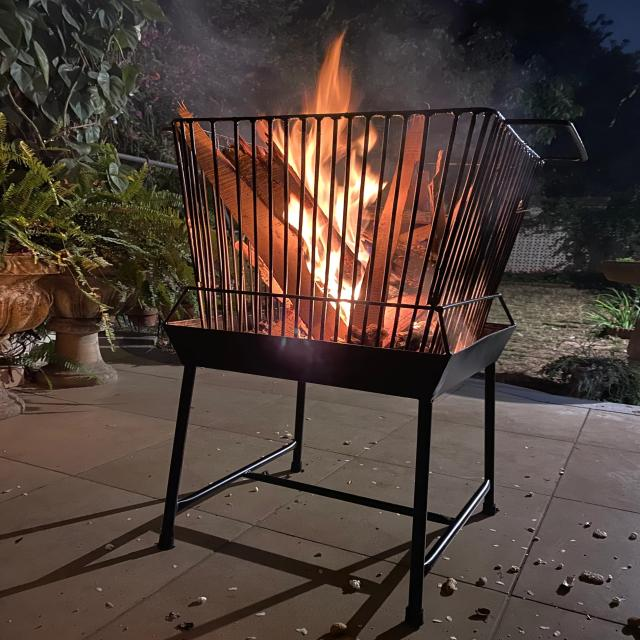fire: (253, 32, 382, 322)
